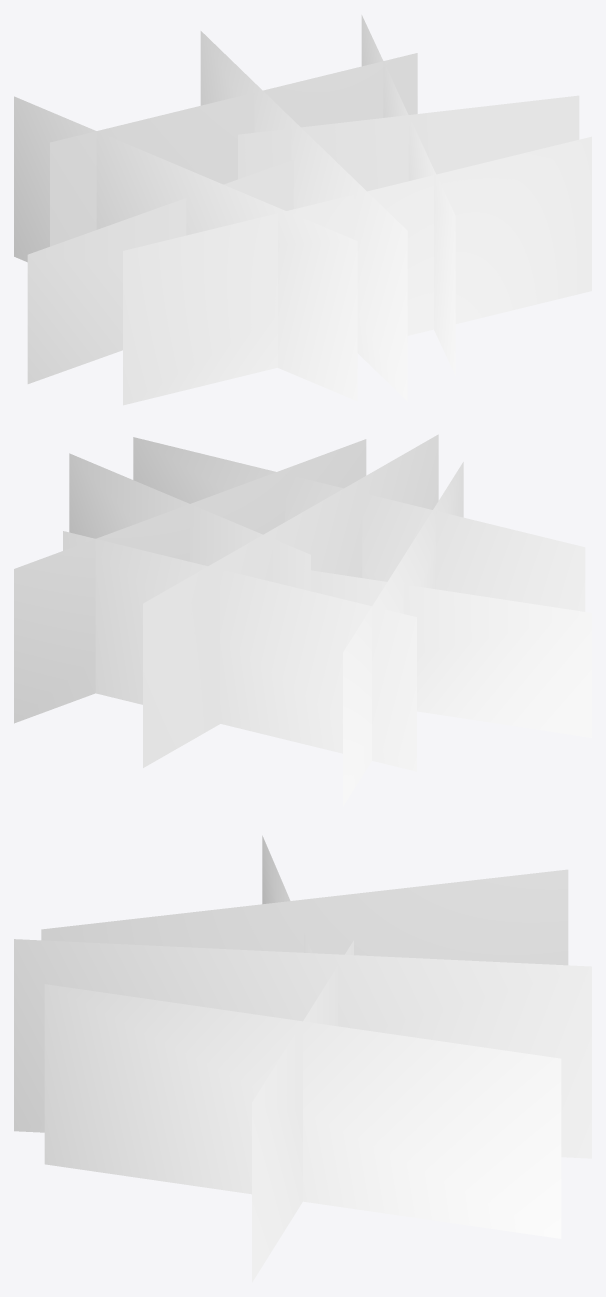
File: SM_Env_Grass_Med_Clump_02.glb
3 views of the same model, one above another, from view 1: azimuth 30°, elevation 25°; view 2: azimuth 150°, elevation 25°; view 3: azimuth 270°, elevation 25° (orthographic). The views are drawn at different scales.
Parts seen in each view (by area): view 1: SM_Env_Grass_Med_Clump_02_LOD0; view 2: SM_Env_Grass_Med_Clump_02_LOD0; view 3: SM_Env_Grass_Med_Clump_02_LOD0.
Boxes of the visible parts, x1=… form: SM_Env_Grass_Med_Clump_02_LOD0: x1=14, y1=15, x2=591, y2=405; SM_Env_Grass_Med_Clump_02_LOD0: x1=14, y1=434, x2=591, y2=806; SM_Env_Grass_Med_Clump_02_LOD0: x1=14, y1=835, x2=591, y2=1282.
Size of what is drawn, in the model's own units: 1.79 by 0.5329 by 1.45.
1 material, 1 textured.
